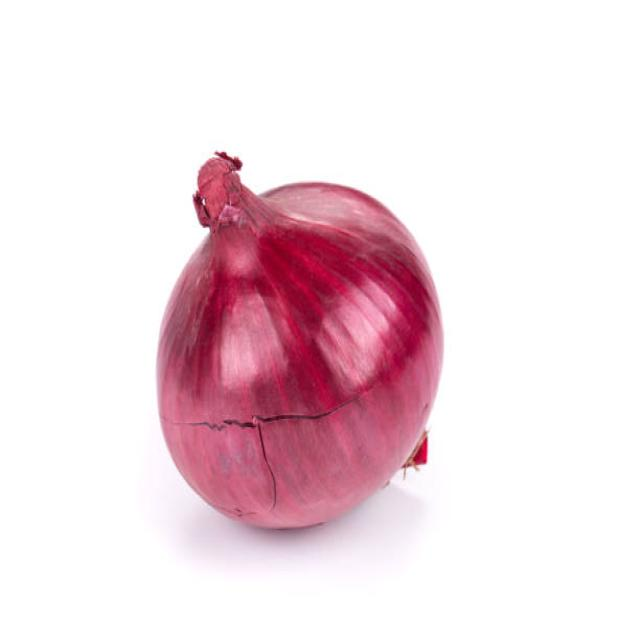onion: (149, 162, 453, 536)
